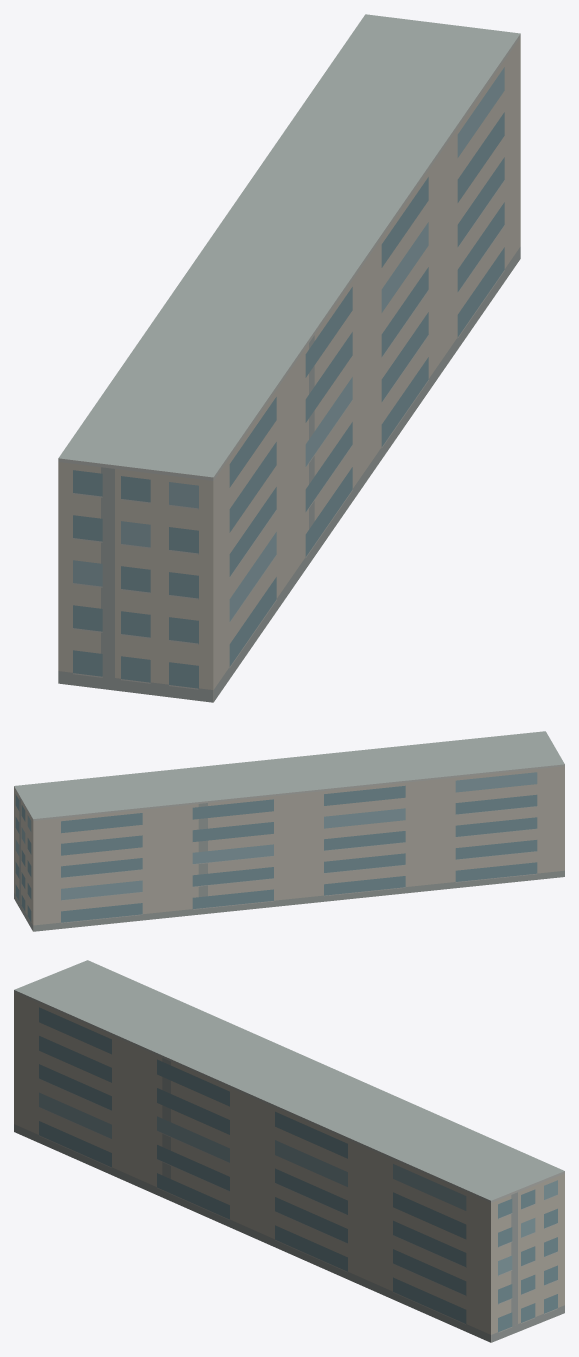
File: residential-fc24785f-4def-4dcd-ba0f-2b89689936d6.glb
The picture shows the model from 3 angles, top to bottom: view 1: azimuth 30°, elevation 25°; view 2: azimuth 150°, elevation 25°; view 3: azimuth 270°, elevation 25°; orthographic projection. The views are drawn at different scales.
Parts seen in each view (by area): view 1: residential-fc24785f-4def-4dcd-ba0f-2b89689936d6.tmp; view 2: residential-fc24785f-4def-4dcd-ba0f-2b89689936d6.tmp; view 3: residential-fc24785f-4def-4dcd-ba0f-2b89689936d6.tmp.
Boxes of the visible parts, x1,y1,x2,y2 form: residential-fc24785f-4def-4dcd-ba0f-2b89689936d6.tmp: [58, 14, 520, 702]; residential-fc24785f-4def-4dcd-ba0f-2b89689936d6.tmp: [14, 731, 564, 931]; residential-fc24785f-4def-4dcd-ba0f-2b89689936d6.tmp: [14, 960, 564, 1342].
Size of the model in its own units: 55.43 by 15.25 by 53.6.
